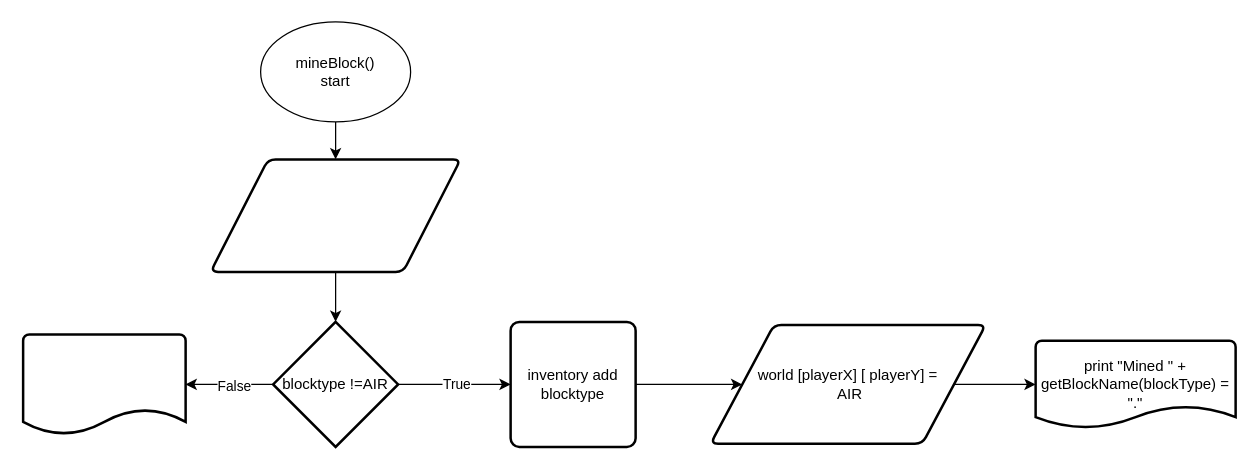
Image size: 1258x470. Some labels were removed from this diagram. Here are the shapes that lost their labels. From the top down, the box of each, then its label:
(209, 158, 461, 272): int blocktype = world [playerX] [playerY]
(21, 332, 186, 435): print "No block to mine here."
